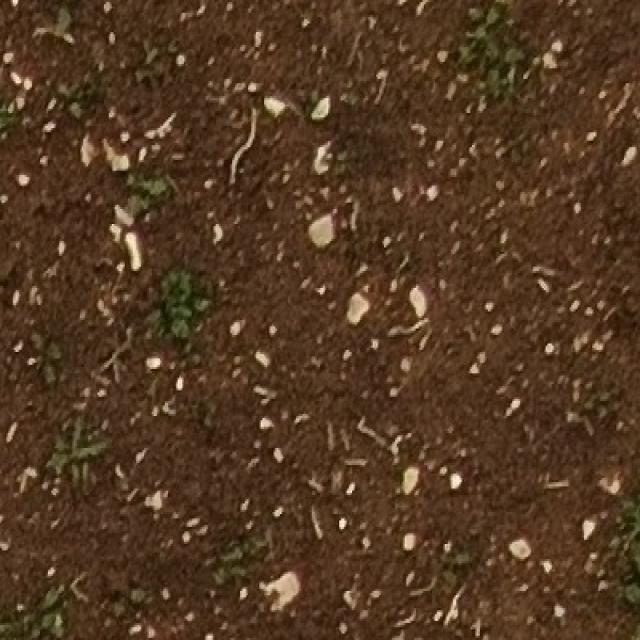cirse: (48, 432, 118, 509), (42, 402, 111, 479), (51, 423, 116, 502)
